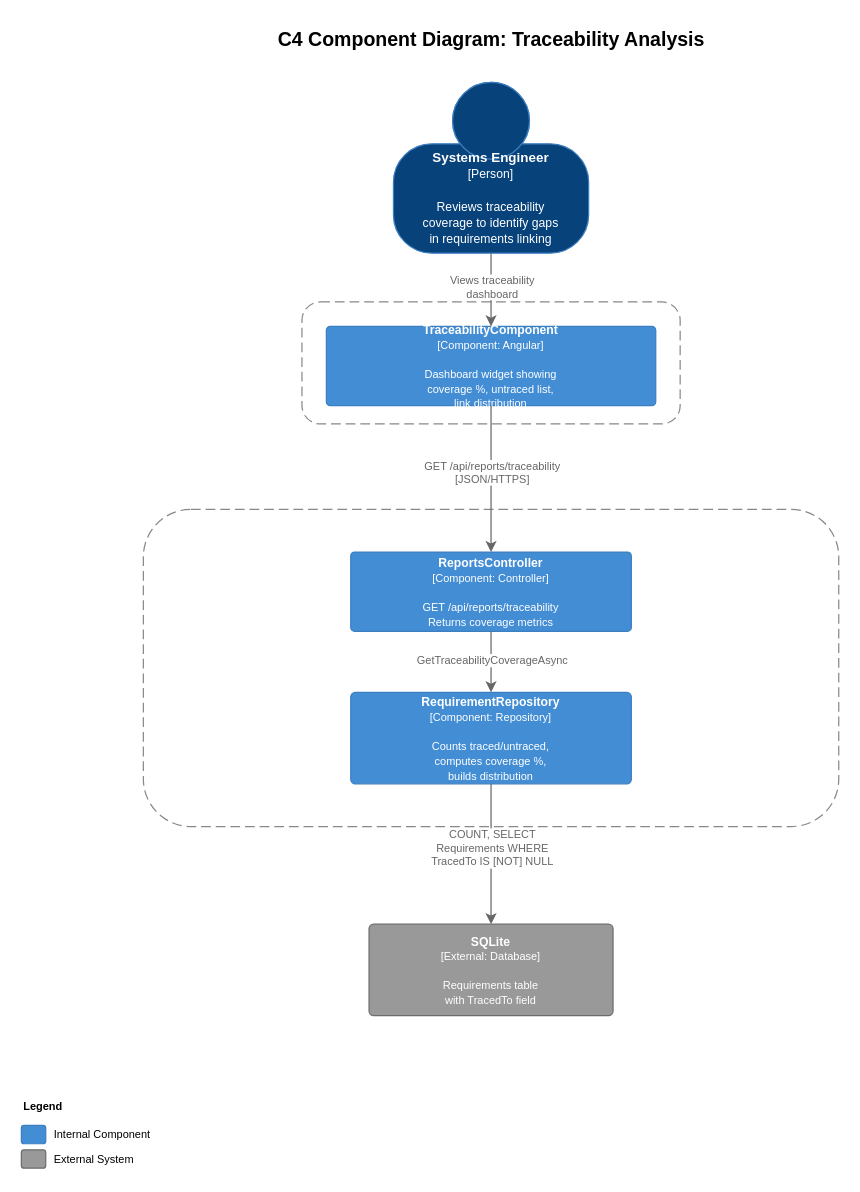
This 860x1192 diagram has some shape labels left out. The box of each missing label's shape, as (x1, y1, x2, y2) in pixels:
Angular SPA [Container]: (301, 301, 680, 424)
API Server [Container: ASP.NET Core]: (142, 508, 839, 827)
